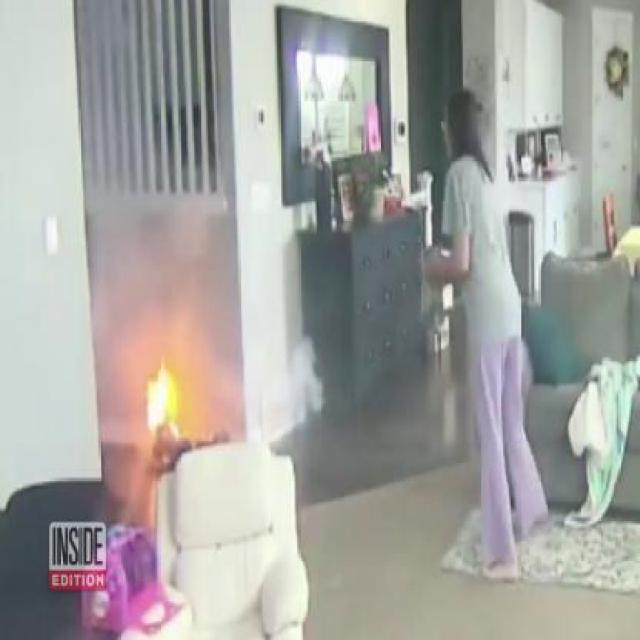fire: (137, 356, 200, 436)
smoke: (94, 195, 291, 374)
